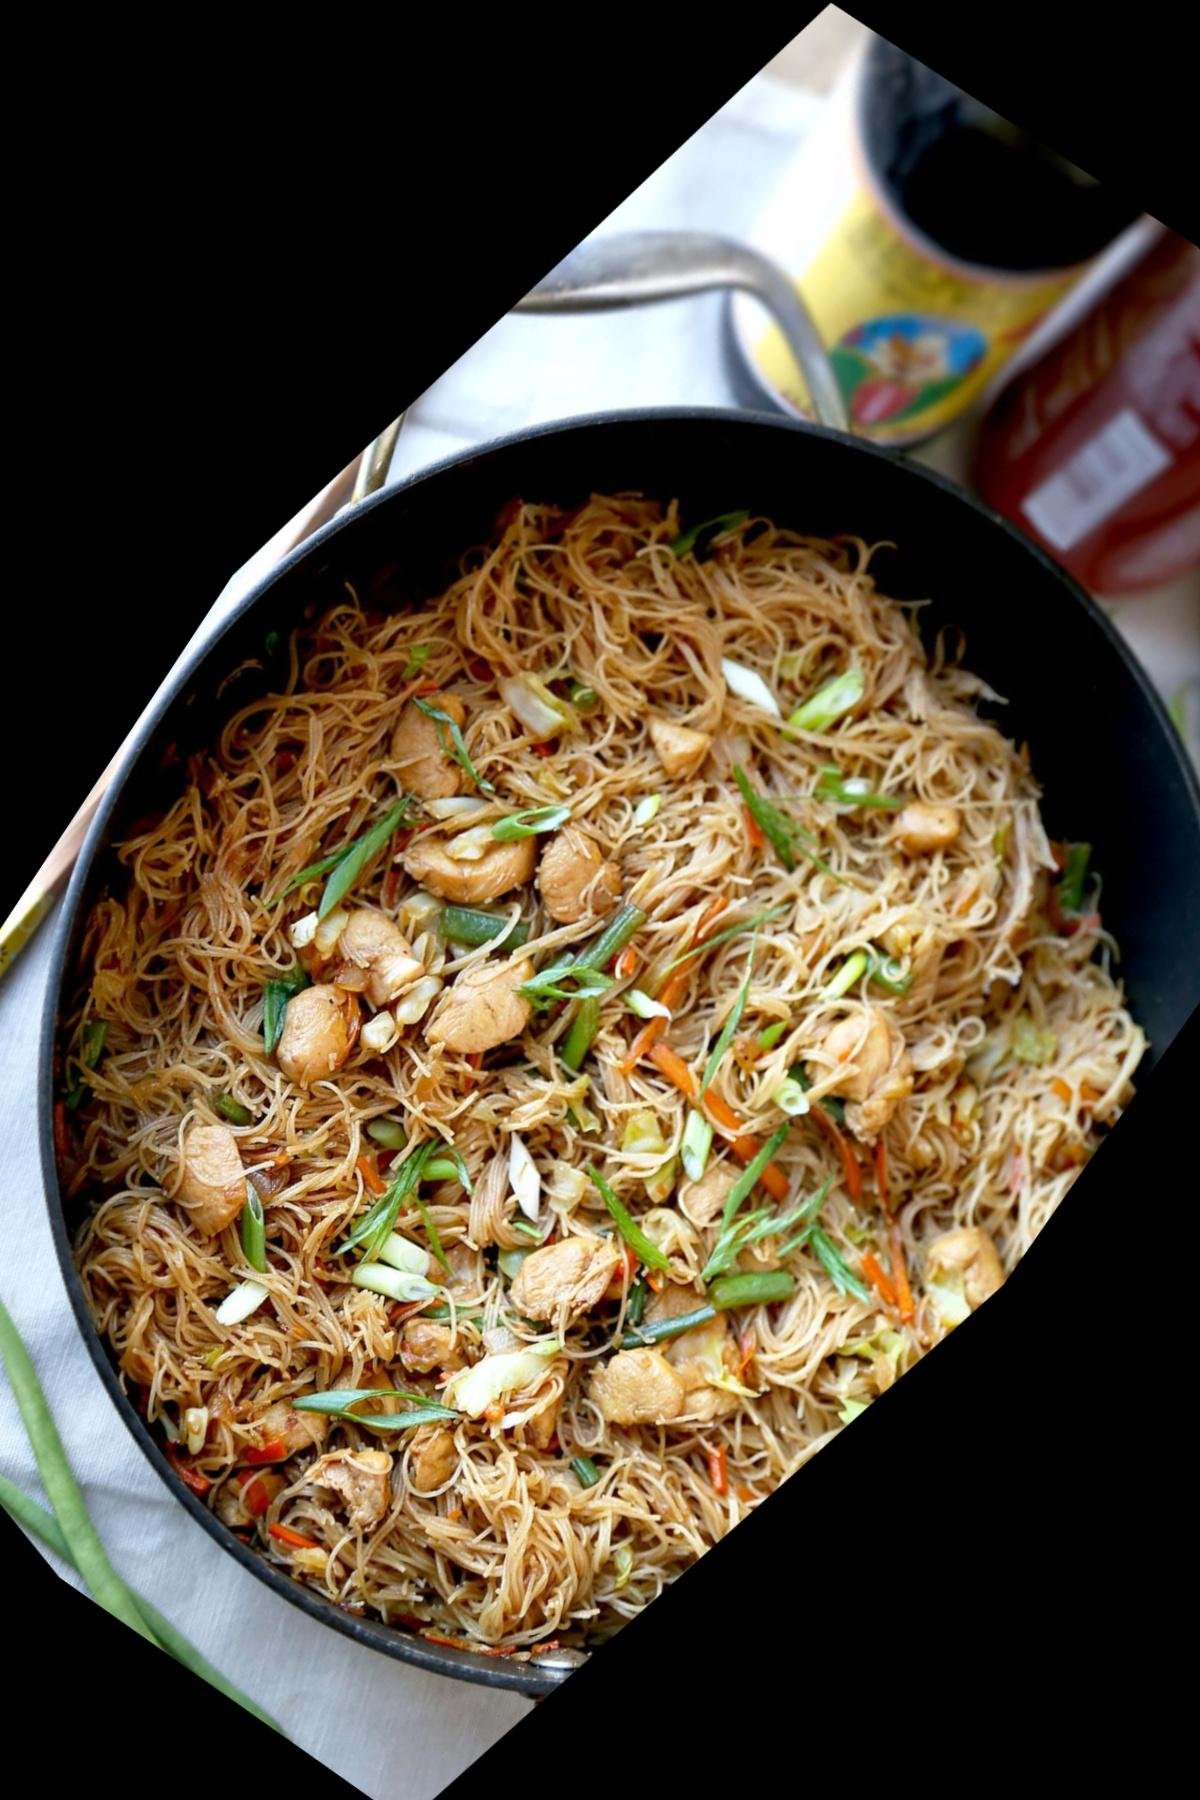pancit bihon: (66, 490, 1094, 1653)
